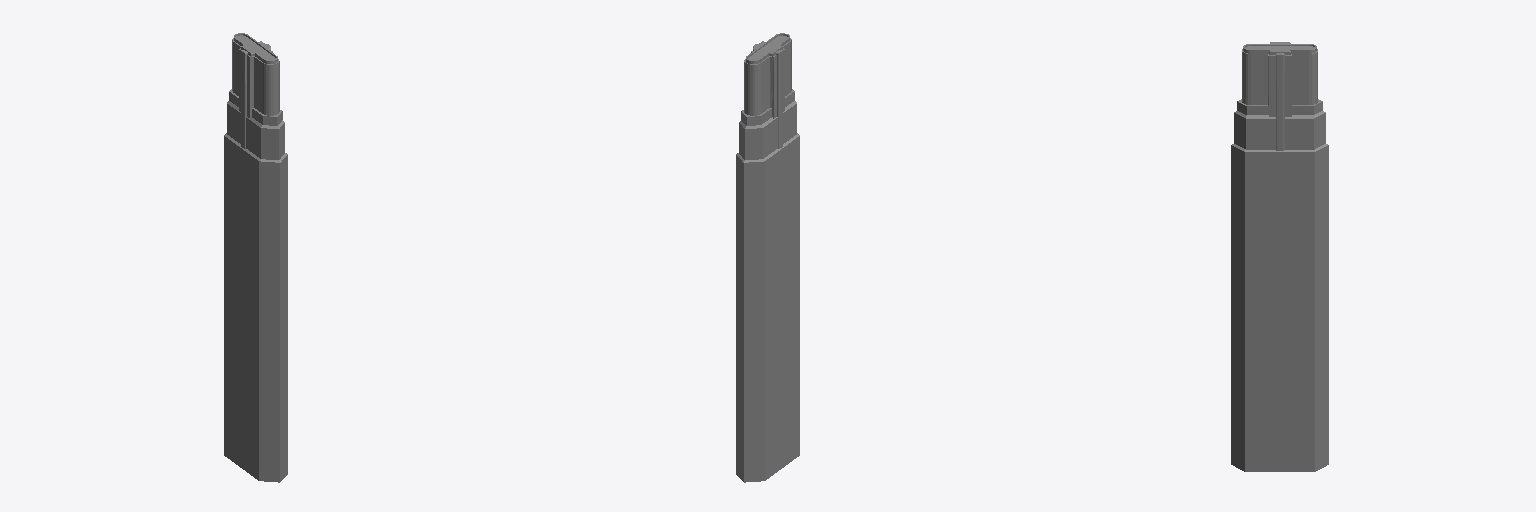
The model's file is Pylon.obj.
3 views of the same model, side by side, from view 1: azimuth 30°, elevation 25°; view 2: azimuth 150°, elevation 25°; view 3: azimuth 270°, elevation 25° (orthographic).
Parts seen in each view (by area): view 1: pylon; view 2: pylon; view 3: pylon.
Part boxes in pixels (bbox=[...]): pylon: bbox=[224, 33, 287, 482]; pylon: bbox=[736, 33, 799, 482]; pylon: bbox=[1231, 42, 1328, 471].
Size of the model in its own units: 93.02 by 1290 by 273.